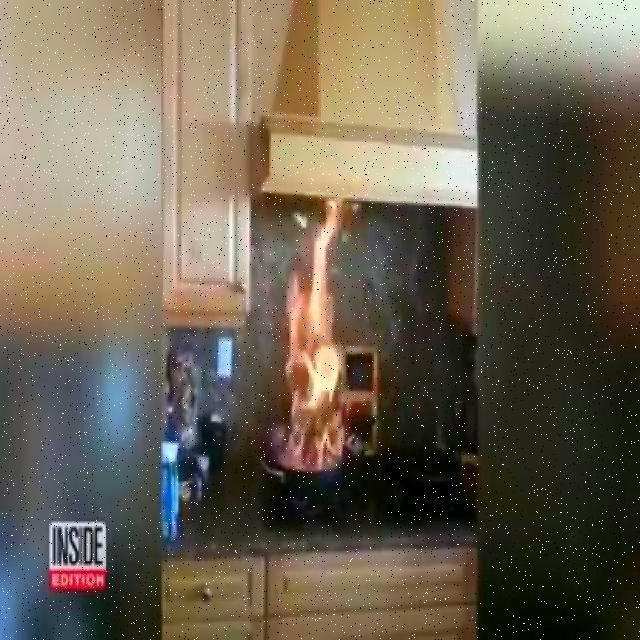fire: (250, 182, 384, 480)
